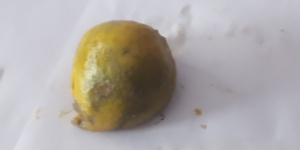BAD: (71, 20, 176, 130)
